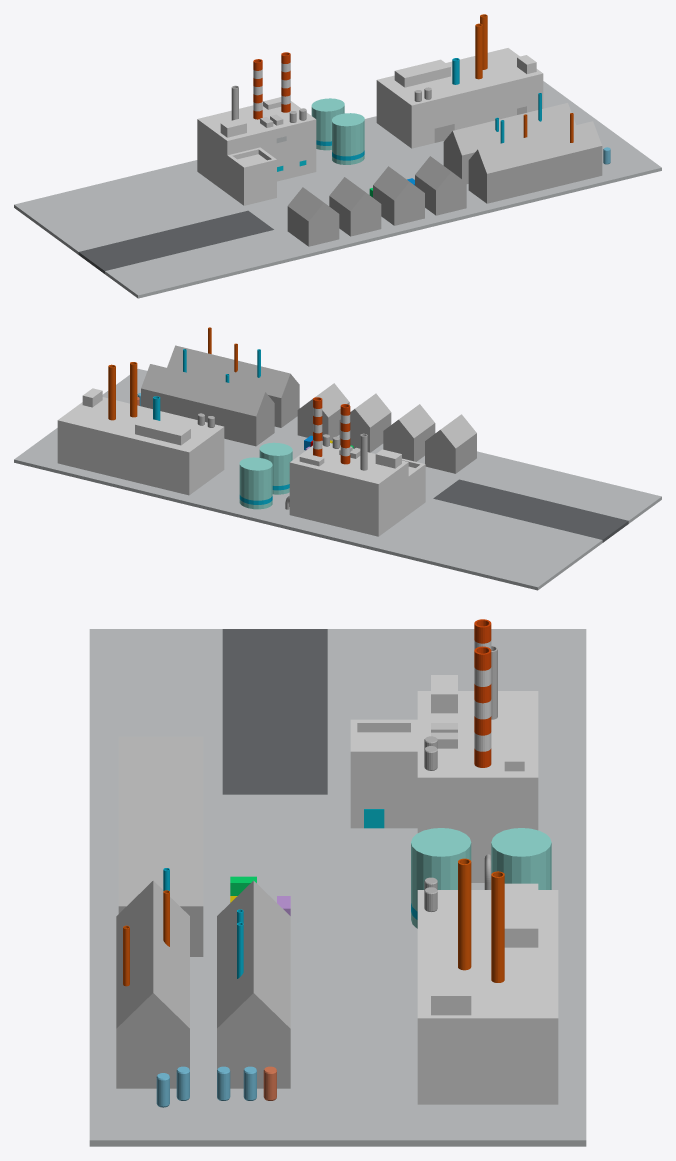
Rendered from Factory.glb.
3 views of the same model, one above another, from view 1: azimuth 30°, elevation 25°; view 2: azimuth 150°, elevation 25°; view 3: azimuth 270°, elevation 25° (orthographic). The views are drawn at different scales.
Visible parts, largest first — view 1: Mesh_Mesh_head_geo.001_lambert2SG.001; view 2: Mesh_Mesh_head_geo.001_lambert2SG.001; view 3: Mesh_Mesh_head_geo.001_lambert2SG.001.
Part boxes in pixels (bbox=[...]): Mesh_Mesh_head_geo.001_lambert2SG.001: bbox=[14, 14, 661, 298]; Mesh_Mesh_head_geo.001_lambert2SG.001: bbox=[14, 327, 661, 590]; Mesh_Mesh_head_geo.001_lambert2SG.001: bbox=[89, 619, 586, 1146].
Bounding box in the file's own units: 173 × 35.5 × 71.
